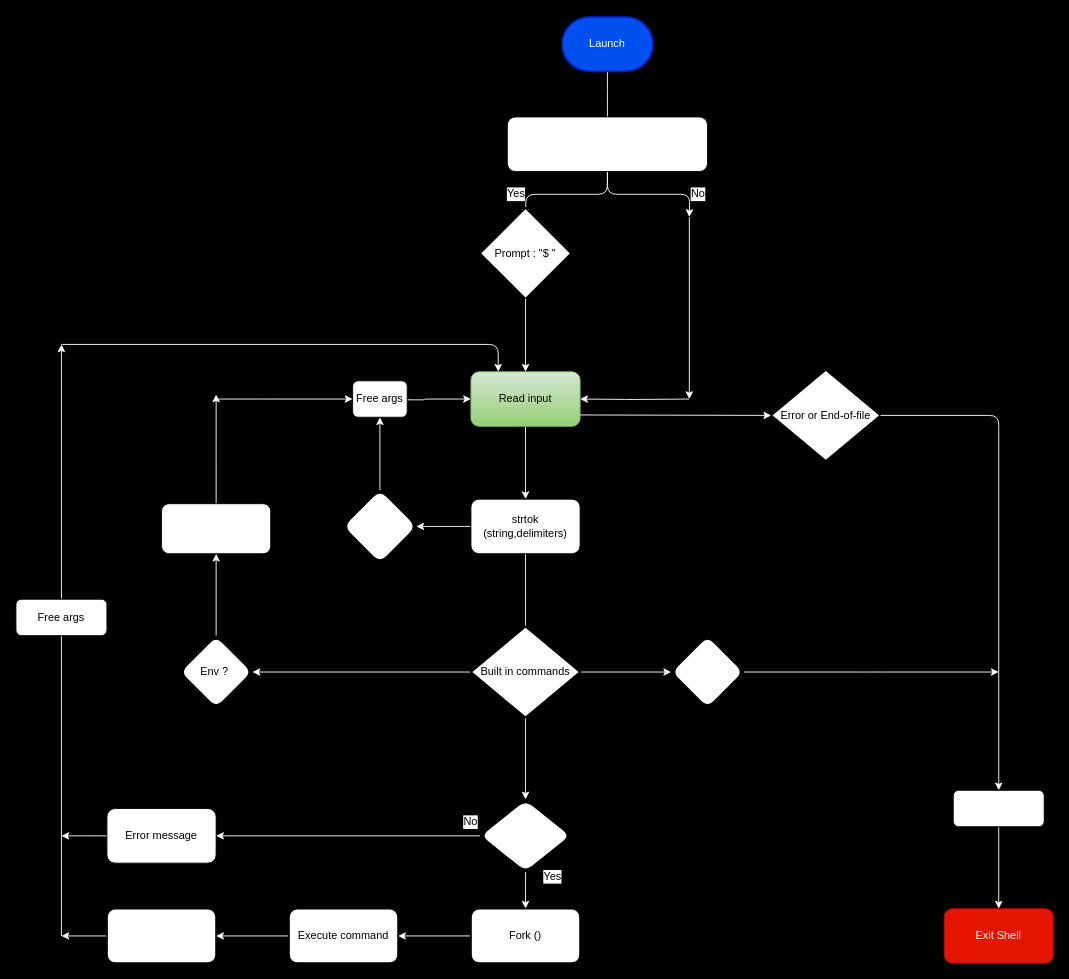
Some shapes in this 1069 by 979 pixel diagram are drawn without their labels. Here are the shapes that lost their labels. From the top down, the box of each, then its label:
(506, 116, 708, 172): interactive = isatty (STDIN_FILENO)
(161, 503, 271, 554): Print Env
(343, 489, 416, 563): args 0 == NULL
(670, 634, 744, 709): Exit ?
(952, 789, 1044, 827): Free memory
(479, 798, 571, 873): Executable ?
(106, 907, 217, 964): Terminate Child process
